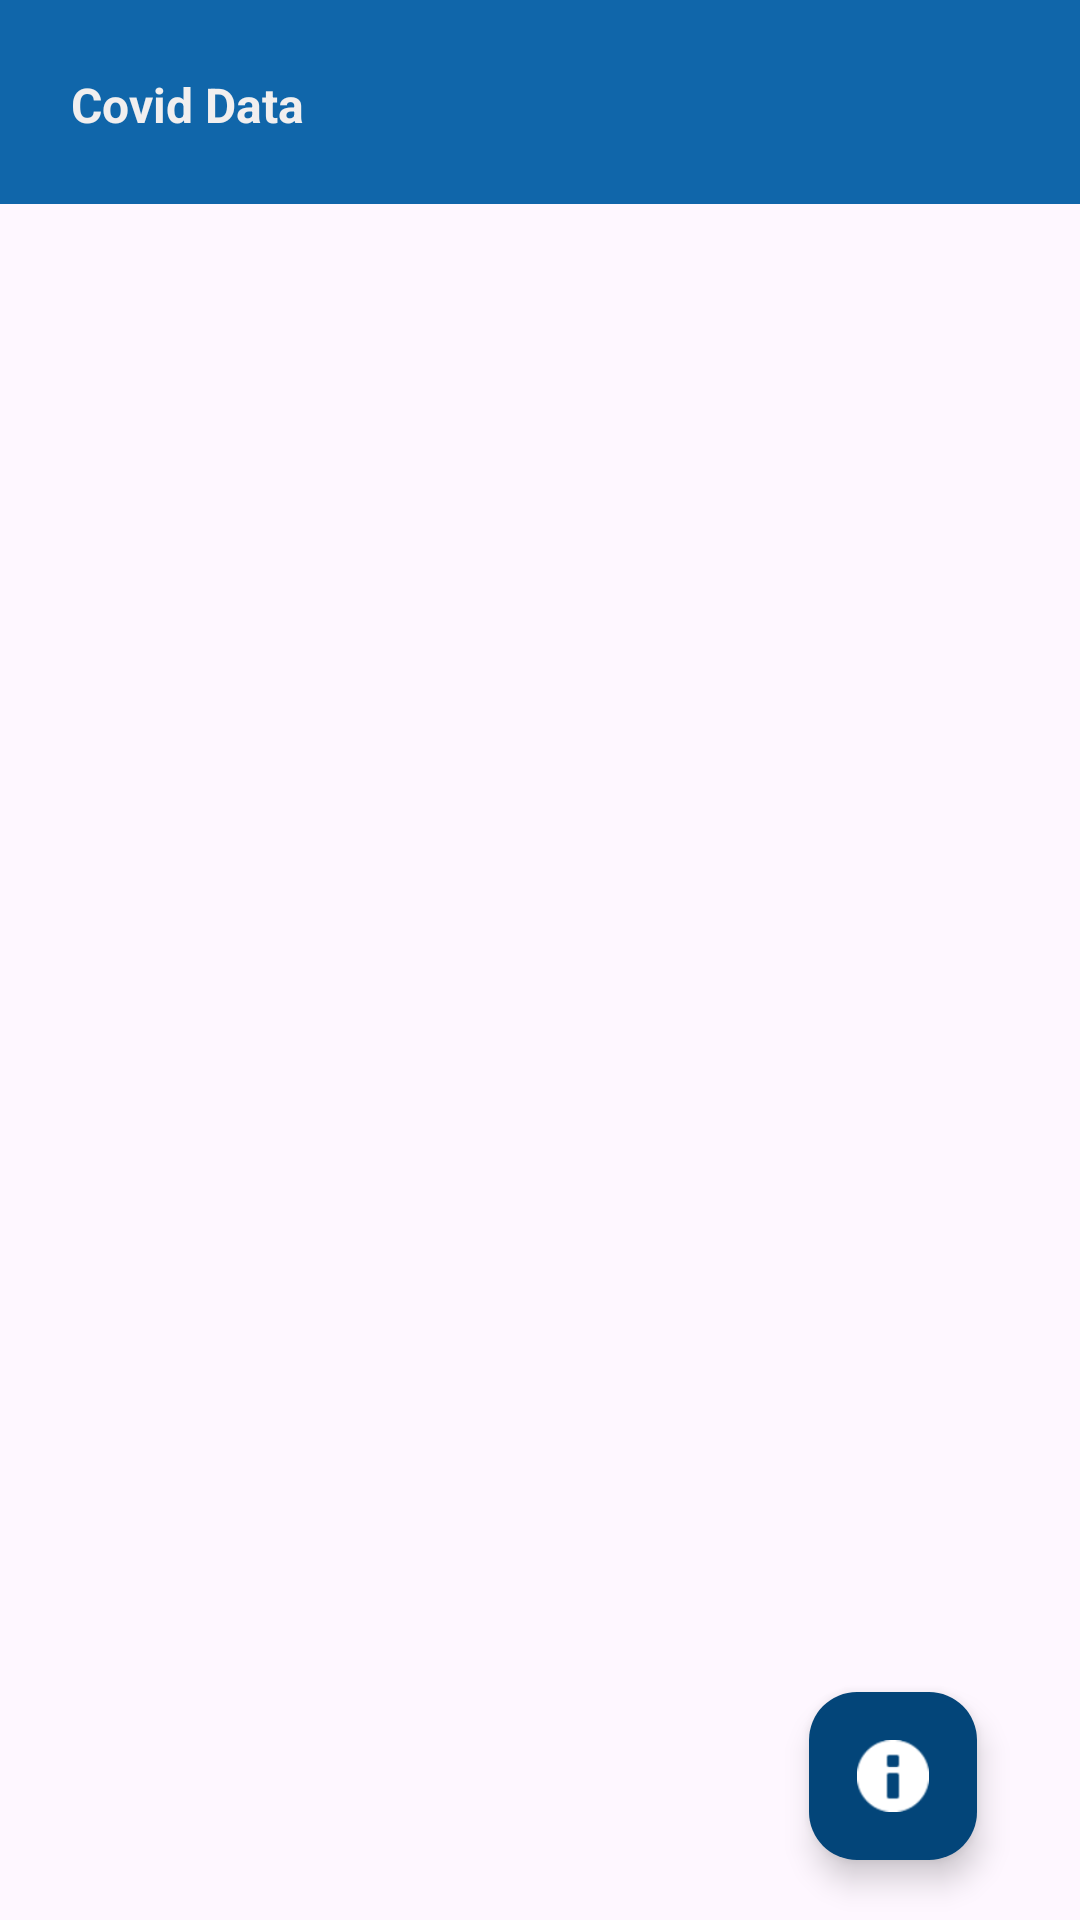

Icon click points for this 1080 x 1920 phone screenshot, format point (x, y):
Developer info: point (893, 1776)
